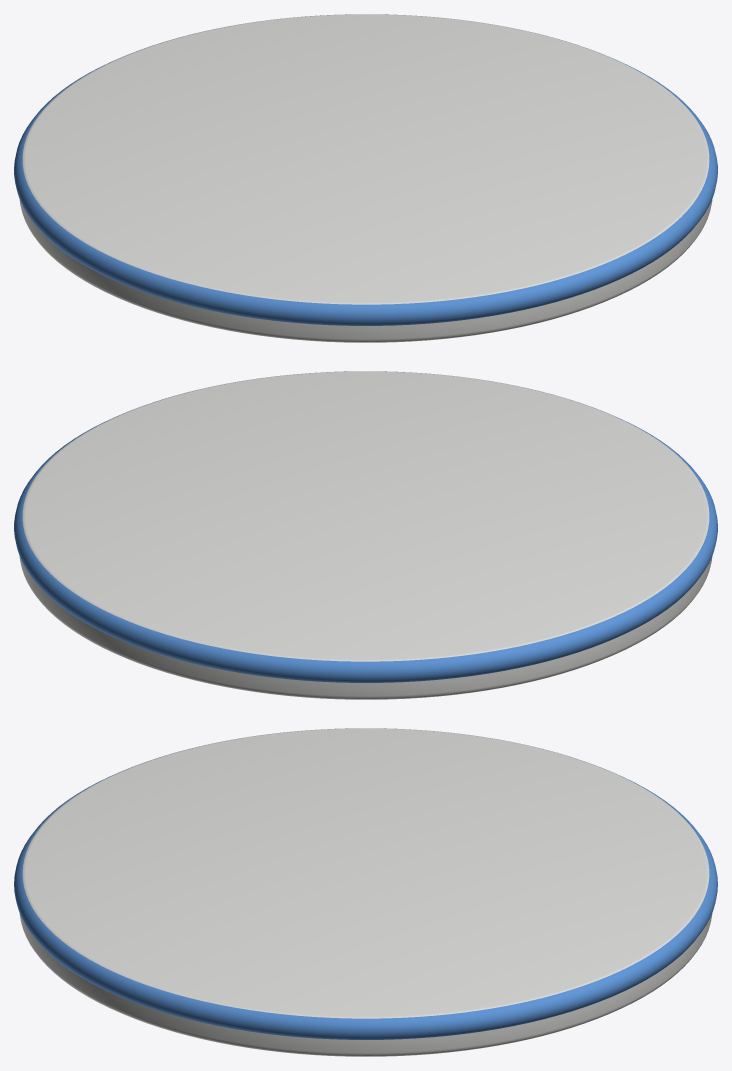
File: plate.fbx
3 views of the same model, one above another, from view 1: azimuth 30°, elevation 25°; view 2: azimuth 150°, elevation 25°; view 3: azimuth 270°, elevation 25° (orthographic).
Visible parts, largest first — view 1: plate; view 2: plate; view 3: plate.
Boxes of the visible parts, x1,y1,x2,y2 form: plate: (14,14,717,342); plate: (14,371,717,699); plate: (14,728,717,1056).
Size of the model in its own units: 2.74 by 0.17 by 2.74.
